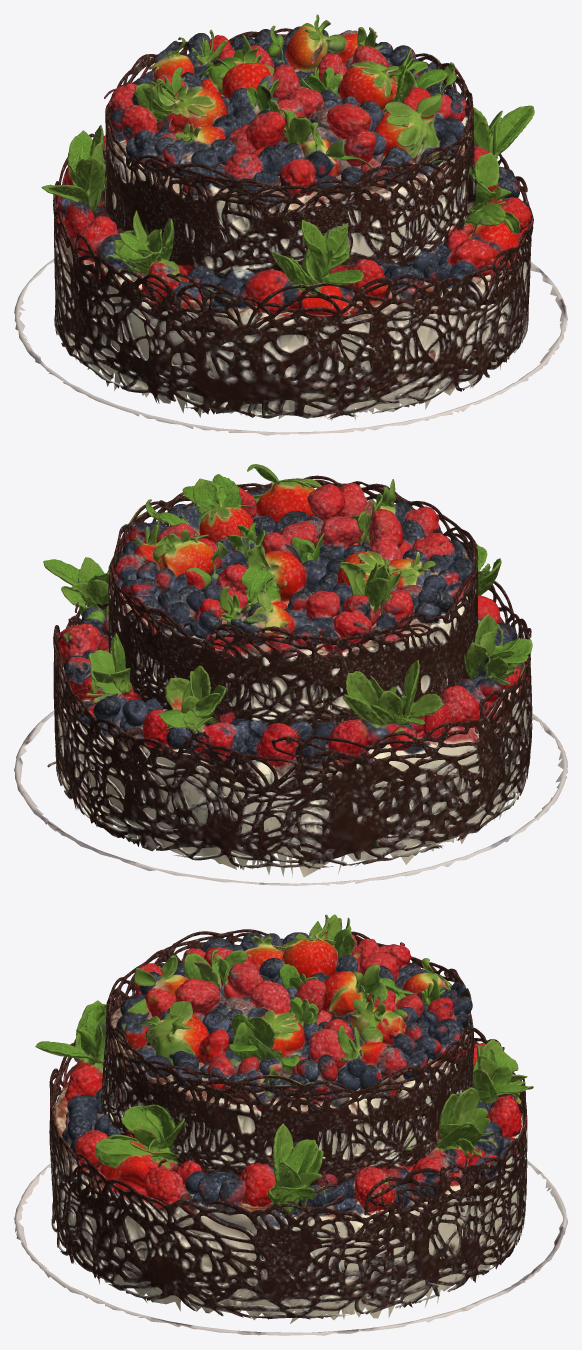
The model's file is cake.glb.
3 renders of one model, top to bottom at view 1: azimuth 30°, elevation 25°; view 2: azimuth 150°, elevation 25°; view 3: azimuth 270°, elevation 25°, orthographic.
Size of the model in its own units: 1.9 by 1.01 by 1.89.
Materials: 1 (1 with a texture image).
